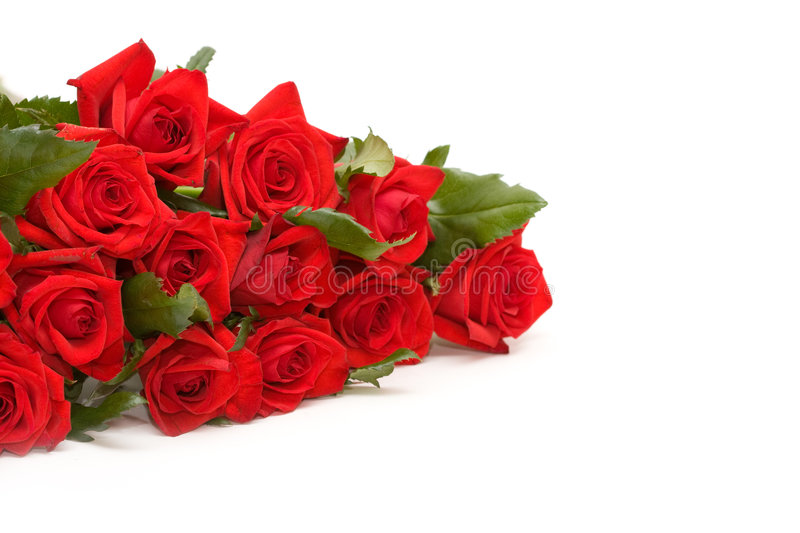RedRose: (96, 57, 221, 189), (47, 144, 162, 254), (234, 91, 342, 206), (337, 142, 435, 263), (330, 273, 447, 369), (245, 318, 351, 413), (450, 238, 545, 342), (12, 267, 102, 376), (158, 208, 246, 312), (135, 339, 233, 432), (241, 232, 337, 318), (0, 354, 83, 441)
